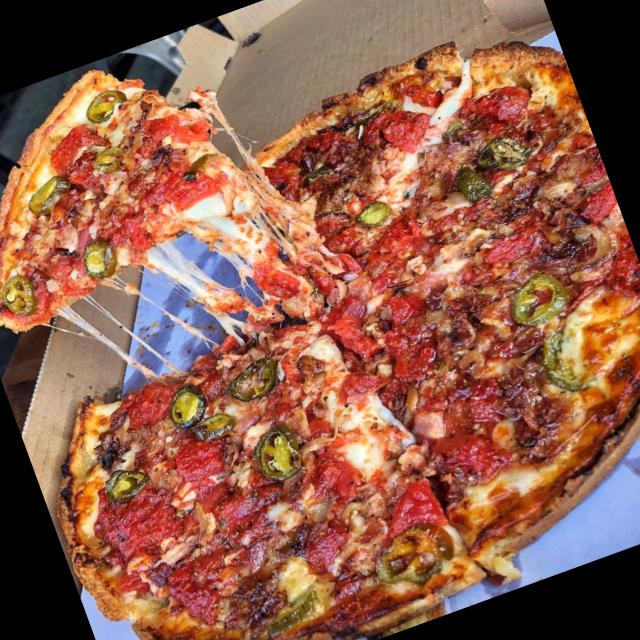pizza: (0, 41, 640, 640)
